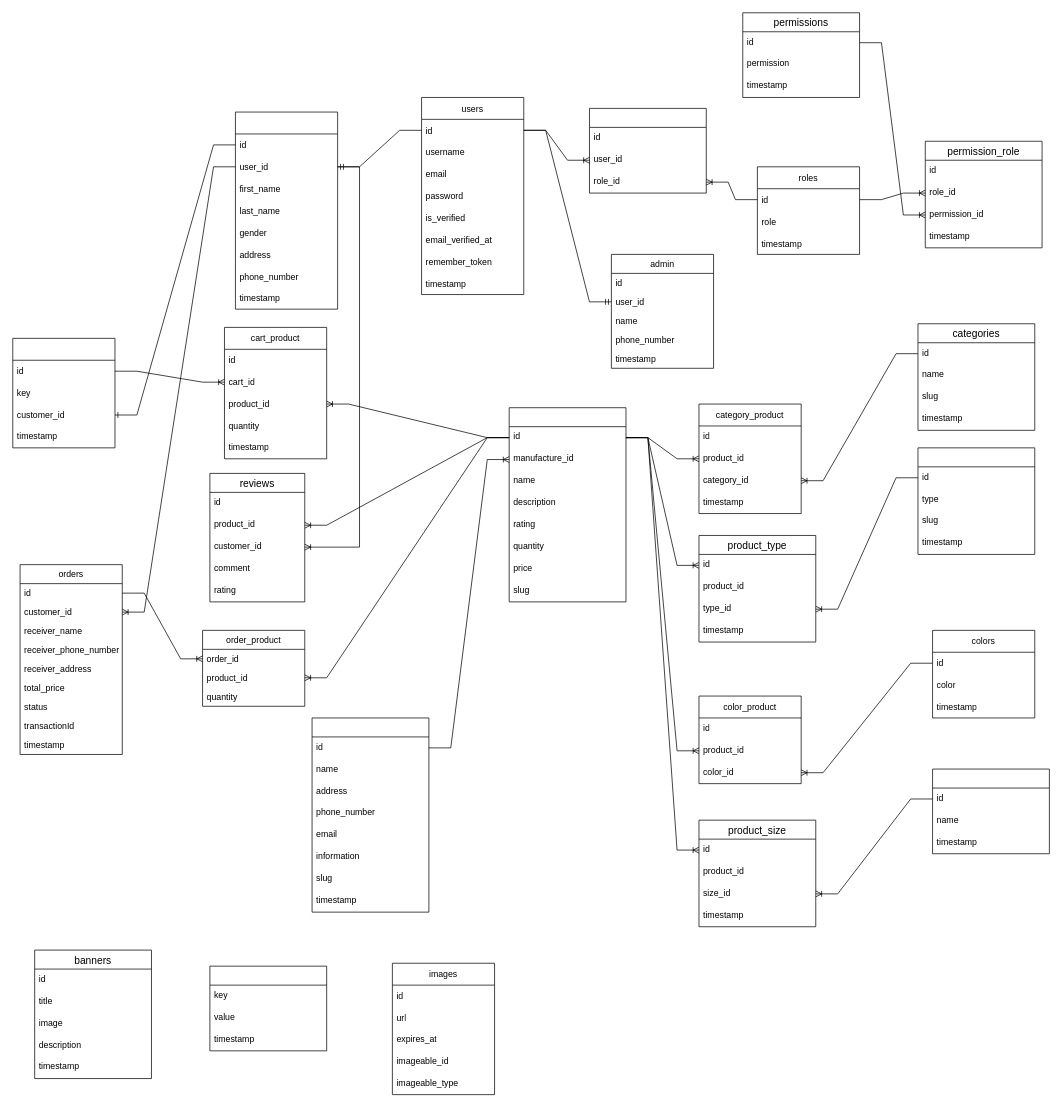
The diagram is 1062 pixels wide and 1107 high, and some of its shapes have lost their labels. Here are the shapes that lost their labels. From the top down, the box of each, then its label:
(589, 108, 706, 193): role_user
(235, 111, 338, 309): customers
(12, 338, 115, 448): carts
(508, 407, 626, 602): products
(917, 447, 1035, 554): types
(311, 717, 429, 912): manufactures
(932, 768, 1049, 854): sizes
(209, 965, 327, 1051): configs
